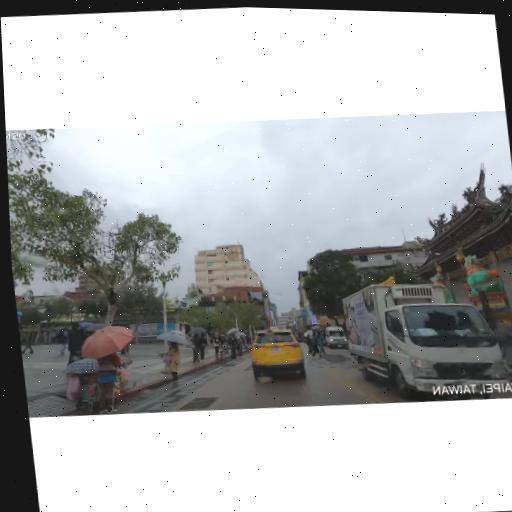Car: (335, 274, 512, 407), (245, 324, 307, 384), (322, 321, 351, 351)
